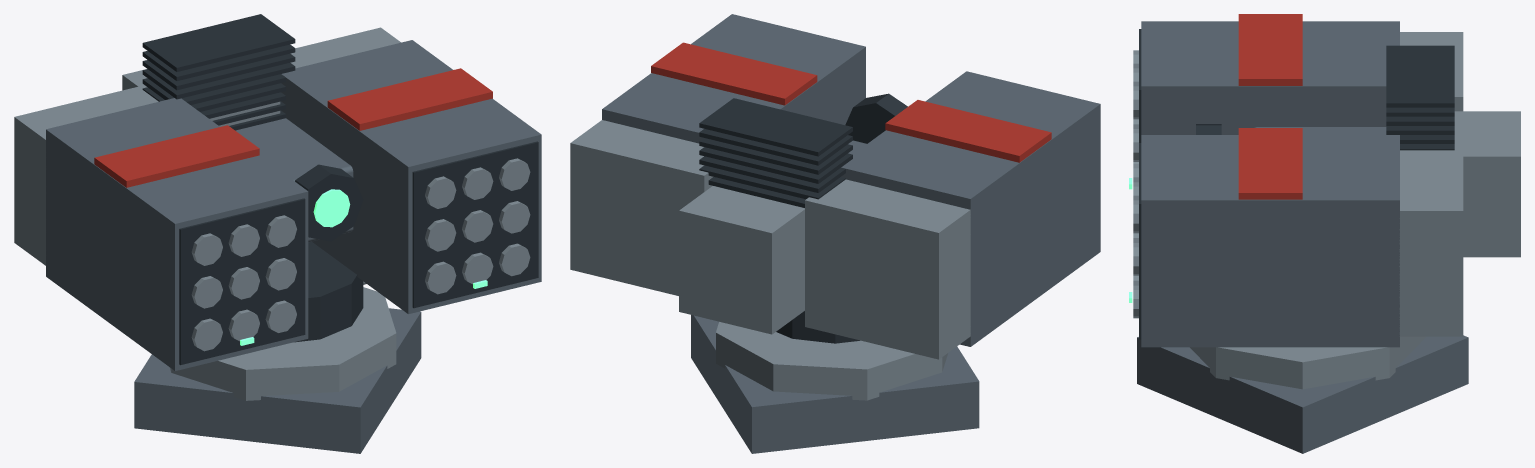
Rendered from quiver_t3_d0.meshopt.glb.
3 renders of one model, left to right at view 1: azimuth 30°, elevation 25°; view 2: azimuth 150°, elevation 25°; view 3: azimuth 270°, elevation 25°, orthographic.
Parts seen in each view (by area): view 1: RECOIL_ARMOR_GEOMETRY, BASE_ARMOR_GEOMETRY, YAW_ARMOR_GEOMETRY, RECOIL_SIGNAL_GEOMETRY; view 2: RECOIL_ARMOR_GEOMETRY, BASE_ARMOR_GEOMETRY, YAW_ARMOR_GEOMETRY; view 3: RECOIL_ARMOR_GEOMETRY, BASE_ARMOR_GEOMETRY.
Part boxes in pixels (left/top/right/bottom): RECOIL_ARMOR_GEOMETRY: left=14, top=14, right=541, bottom=370; BASE_ARMOR_GEOMETRY: left=134, top=287, right=421, bottom=453; YAW_ARMOR_GEOMETRY: left=294, top=241, right=366, bottom=342; RECOIL_SIGNAL_GEOMETRY: left=240, top=189, right=487, bottom=345; RECOIL_ARMOR_GEOMETRY: left=570, top=14, right=1100, bottom=359; BASE_ARMOR_GEOMETRY: left=691, top=315, right=979, bottom=453; YAW_ARMOR_GEOMETRY: left=776, top=311, right=859, bottom=343; RECOIL_ARMOR_GEOMETRY: left=1133, top=14, right=1520, bottom=347; BASE_ARMOR_GEOMETRY: left=1137, top=335, right=1468, bottom=453.
Size of the model in its own units: 1.98 by 1.6 by 1.83.
